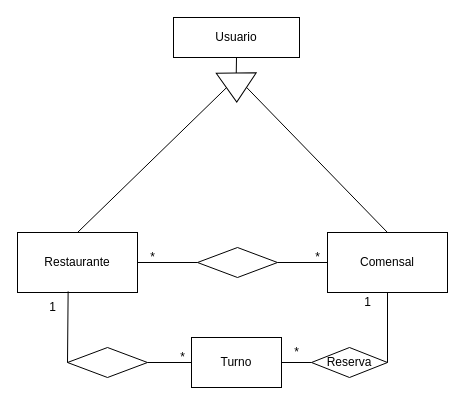
This 465x405 diagram has some shape labels left out. Each missing label, with the centre of its shape:
"Califica" goes at [237,262].
"Ofrece" goes at [107,362].
